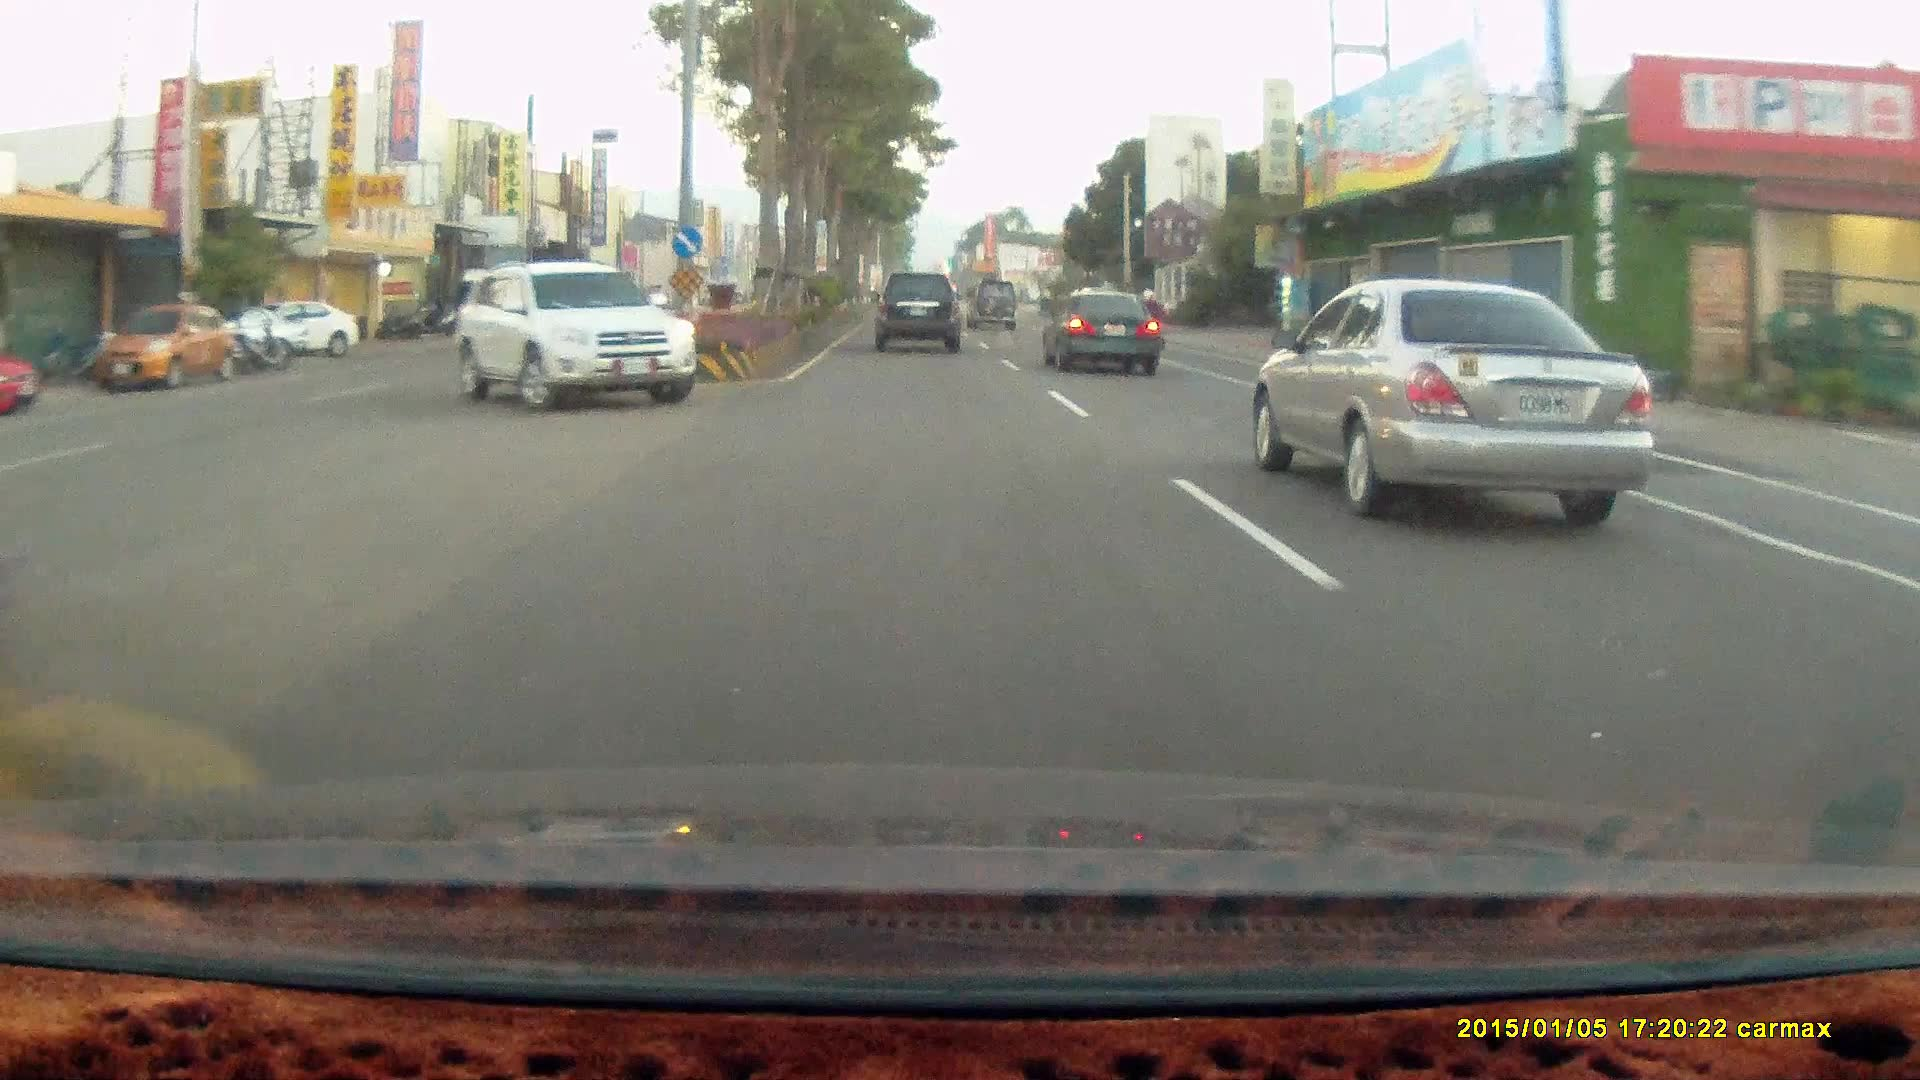vehicle: (1255, 277, 1658, 522), (452, 258, 700, 407), (452, 264, 700, 410), (78, 305, 237, 397), (88, 303, 239, 392), (1039, 287, 1158, 375), (1047, 295, 1164, 381), (872, 272, 967, 359), (239, 302, 360, 363), (240, 298, 360, 357), (873, 272, 959, 349), (1, 326, 42, 419), (967, 281, 1021, 334), (967, 278, 1017, 330)
